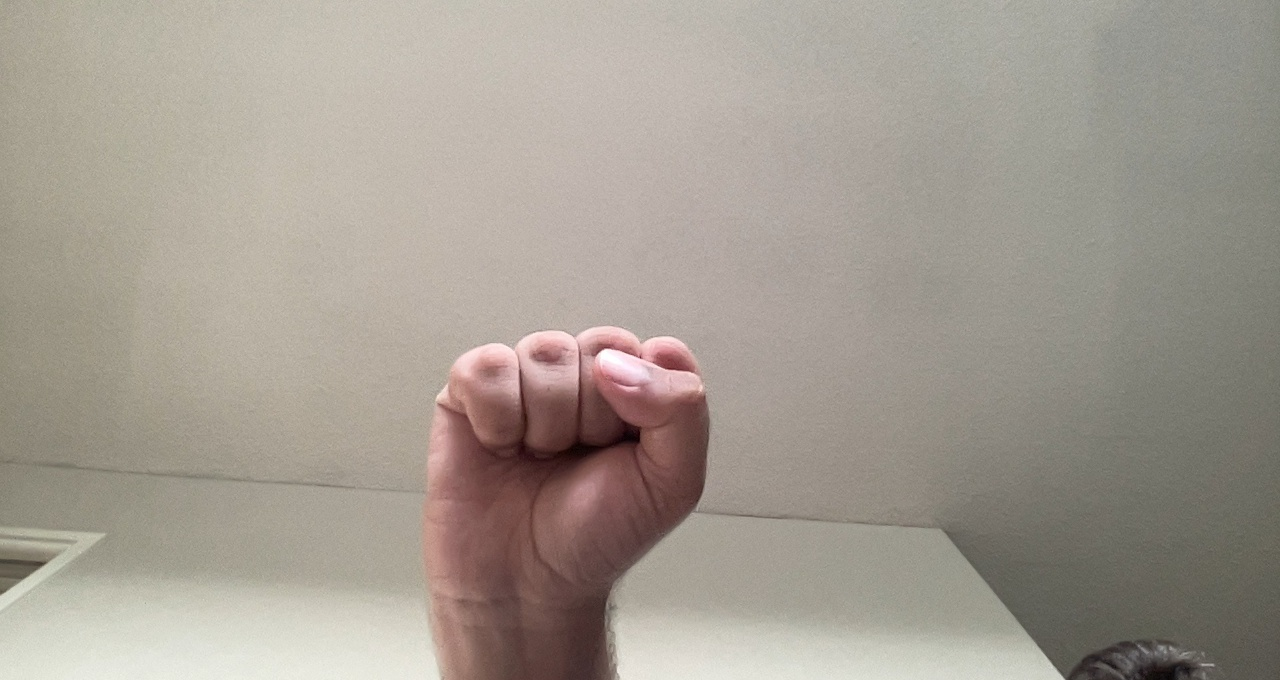closedfist: (413, 322, 715, 640)
